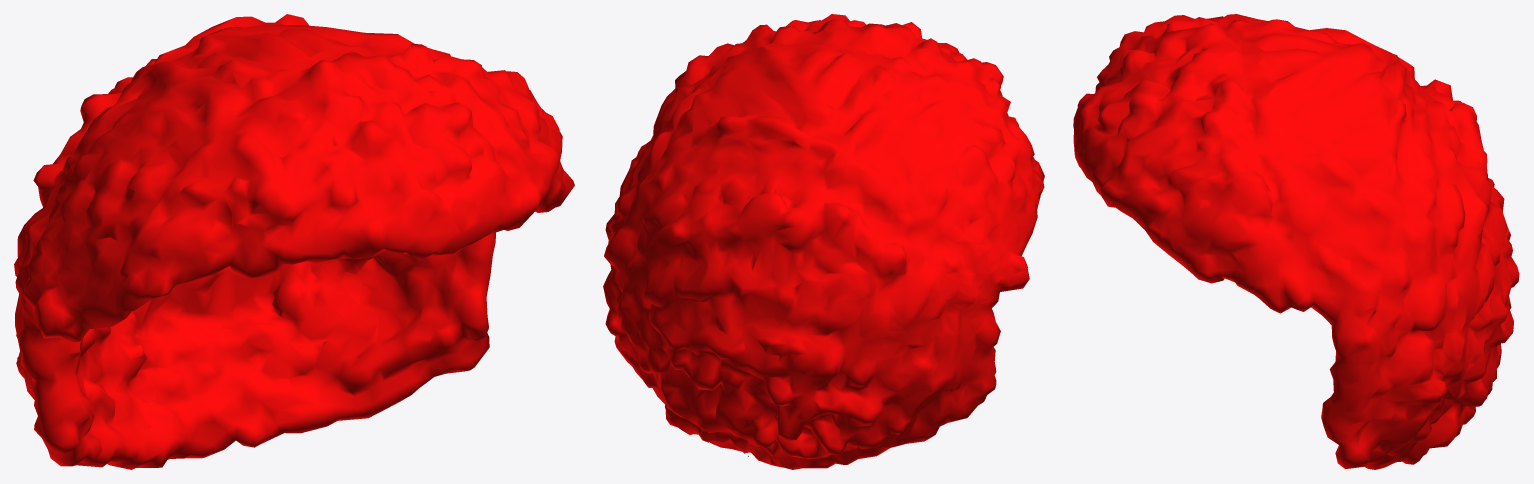
File: messy red.glb
3 views of the same model, side by side, from view 1: azimuth 30°, elevation 25°; view 2: azimuth 150°, elevation 25°; view 3: azimuth 270°, elevation 25° (orthographic). The views are drawn at different scales.
Visible parts, largest first — view 1: hair_short_messy_red.001; view 2: hair_short_messy_red.001; view 3: hair_short_messy_red.001.
Boxes of the visible parts, x1,y1,x2,y2 form: hair_short_messy_red.001: [14, 14, 574, 469]; hair_short_messy_red.001: [603, 14, 1044, 469]; hair_short_messy_red.001: [1073, 14, 1519, 469].
Bounding box in the file's own units: 0.3472 × 0.318 × 0.3194.
Materials: 1 (1 with a texture image).
